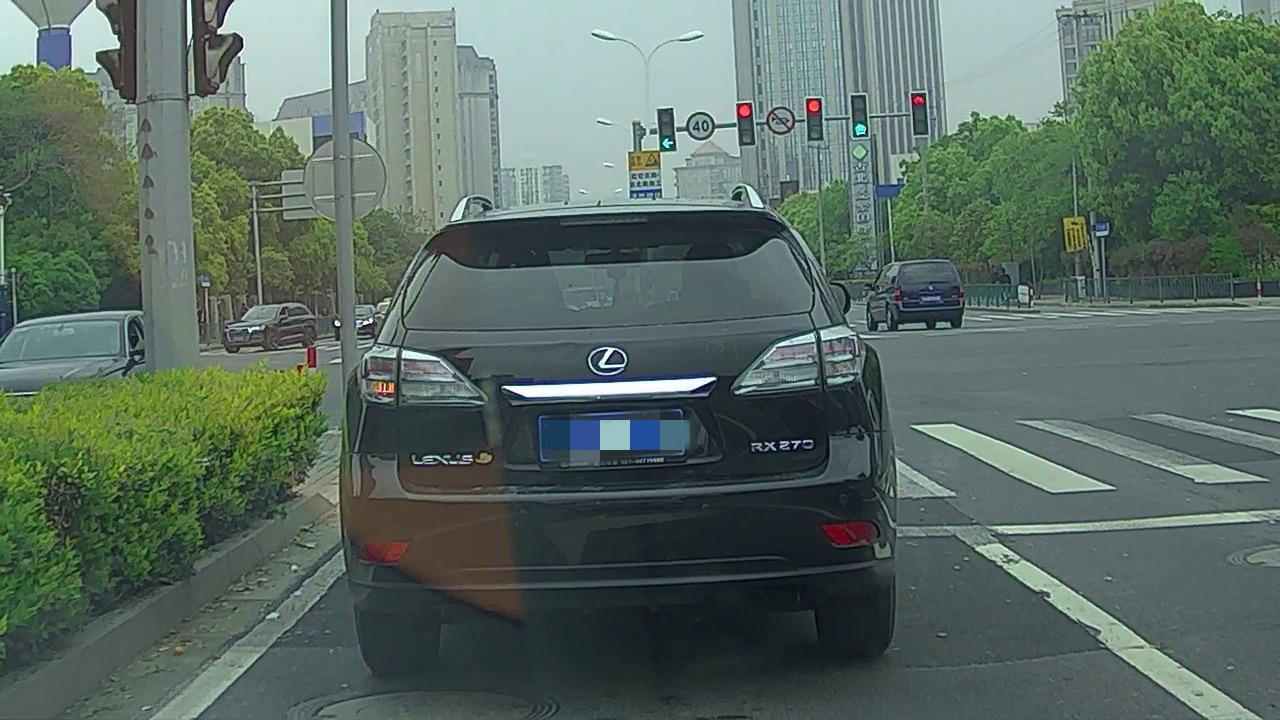traffic_light: (657, 107, 677, 151), (911, 91, 929, 137), (806, 98, 824, 141), (852, 94, 868, 139), (738, 103, 755, 145)
